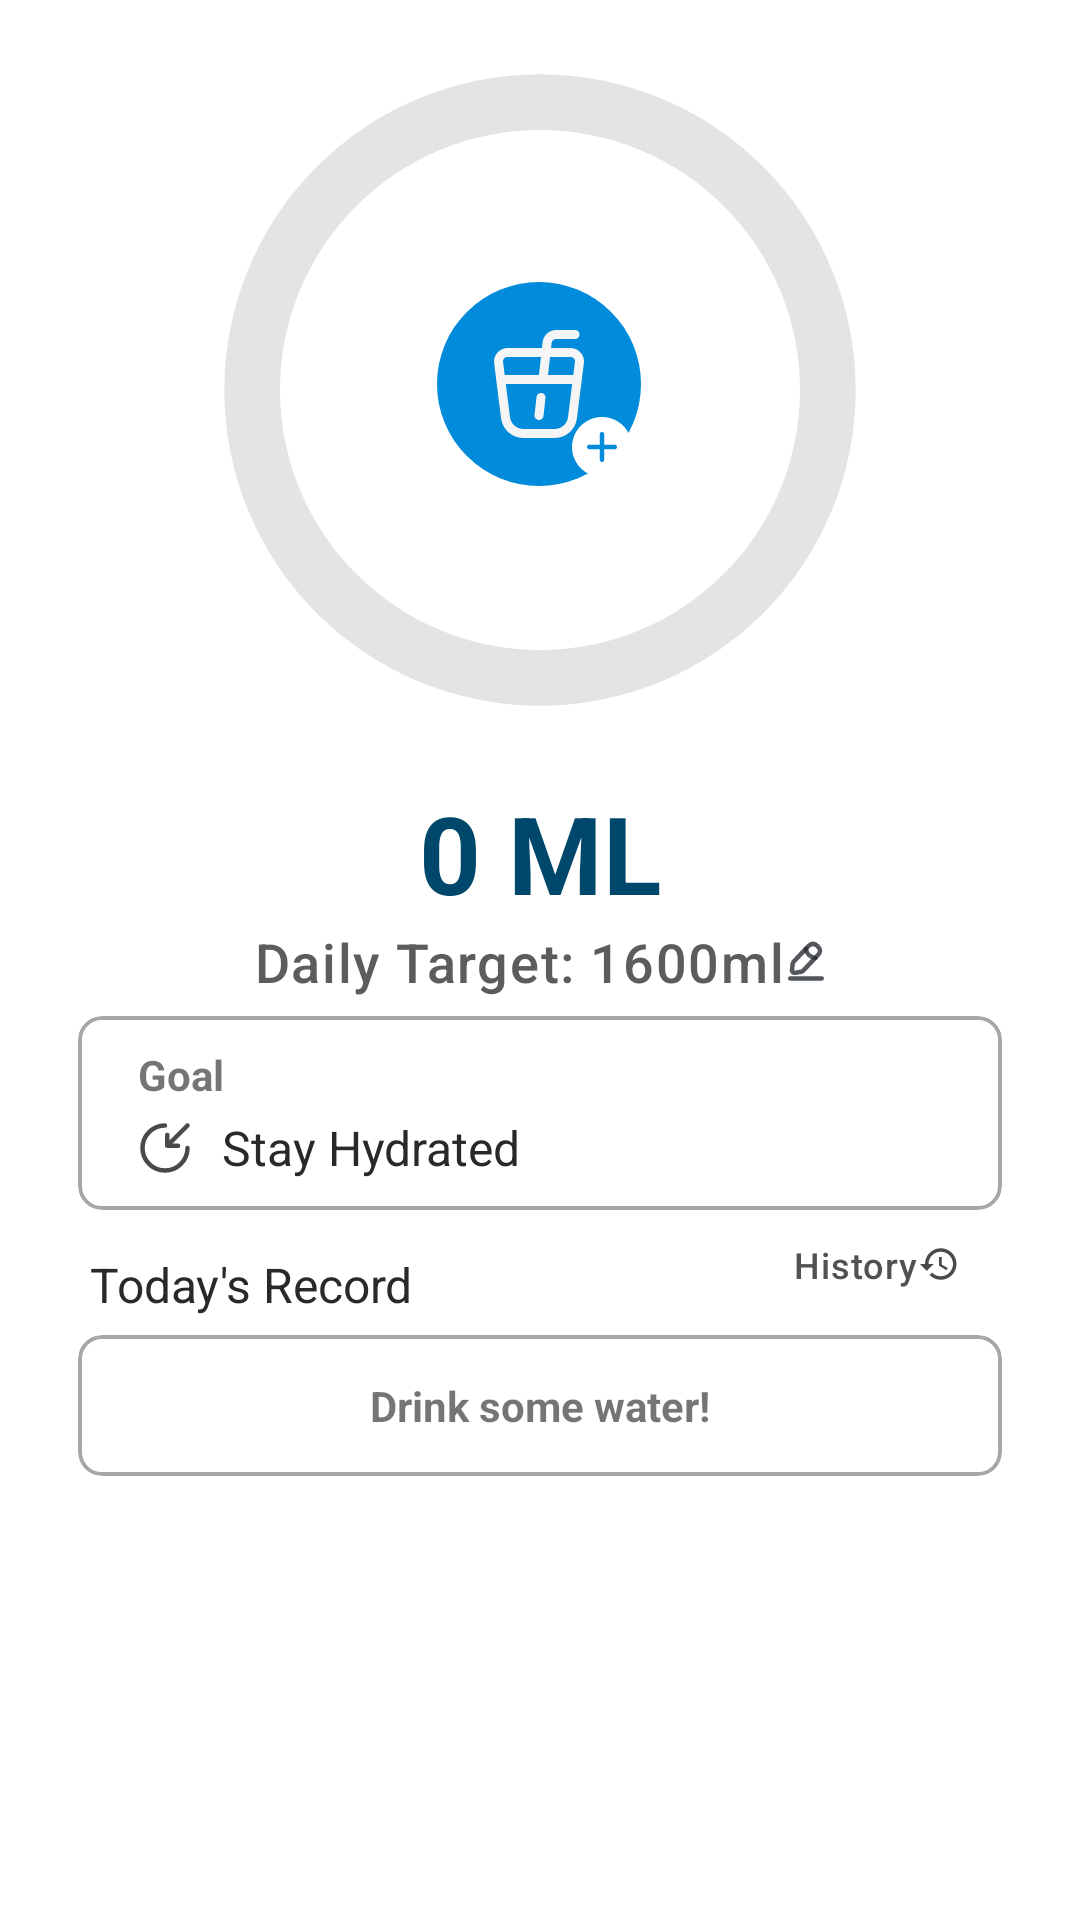

Where to tap for icons on this 1080x1920 app screen, as point (x, y):
add water: point (539, 384)
